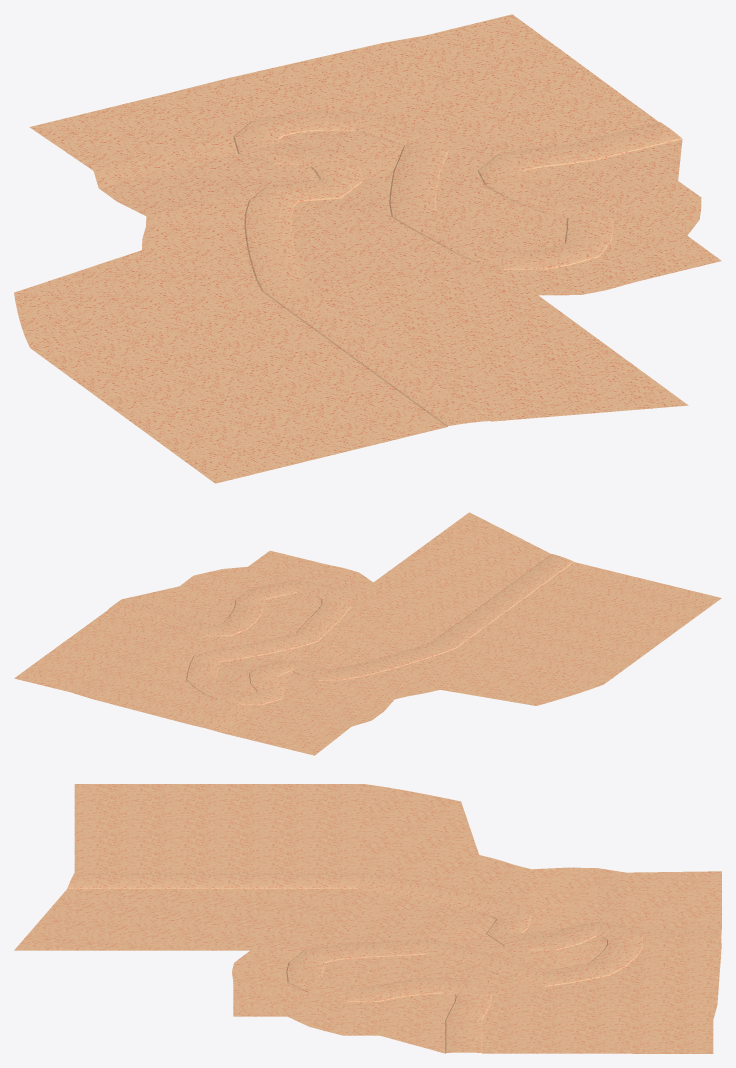
The model's file is ground_event4_char2_v2.glb.
3 views of the same model, one above another, from view 1: azimuth 30°, elevation 25°; view 2: azimuth 150°, elevation 25°; view 3: azimuth 270°, elevation 25° (orthographic). The views are drawn at different scales.
Parts seen in each view (by area): view 1: track_curves.001; view 2: track_curves.001; view 3: track_curves.001.
Boxes of the visible parts, left/top/right/bottom form: track_curves.001: left=14, top=14, right=721, bottom=483; track_curves.001: left=14, top=512, right=721, bottom=755; track_curves.001: left=14, top=784, right=721, bottom=1053.
Size of the model in its own units: 257 by 1.13 by 286.
1 material, 1 textured.
